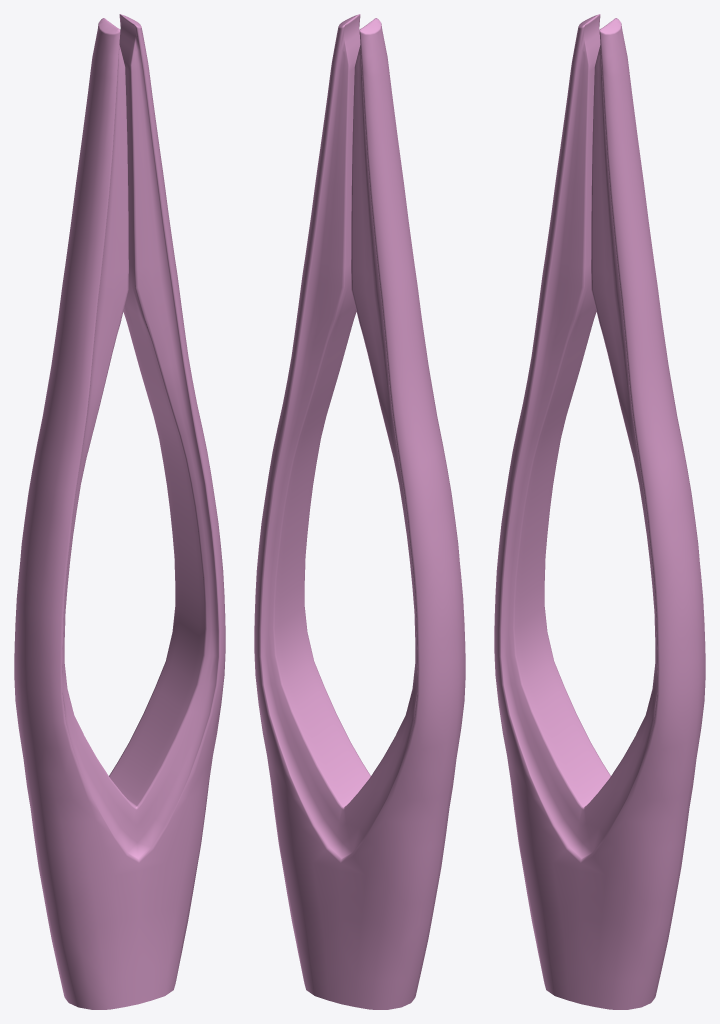
File: dun.obj
3 views of the same model, side by side, from view 1: azimuth 30°, elevation 25°; view 2: azimuth 150°, elevation 25°; view 3: azimuth 330°, elevation 25° (orthographic).
Parts seen in each view (by area): view 1: 1qt; view 2: 1qt; view 3: 1qt.
Part boxes in pixels (bbox=[...]): 1qt: bbox=[14, 14, 225, 1009]; 1qt: bbox=[254, 14, 465, 1009]; 1qt: bbox=[494, 14, 705, 1009].
Size of the model in its own units: 3448 by 16220 by 1313.
